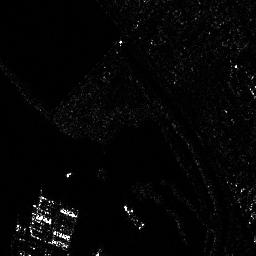ship: (122, 204, 144, 230)
